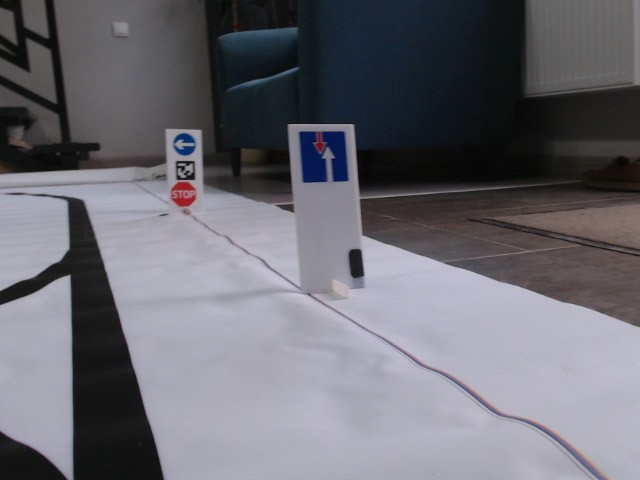Stop: (169, 181, 196, 206)
priority_movement: (297, 128, 350, 184)
